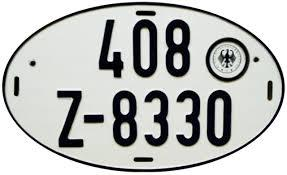0: (128, 18, 162, 79), (203, 88, 235, 146)
3: (140, 88, 174, 147), (172, 88, 204, 148)
4: (93, 19, 127, 79)
8: (162, 17, 193, 77), (108, 89, 140, 146)
Z: (55, 88, 84, 149)
